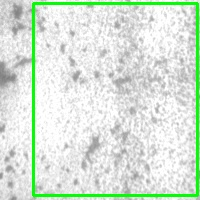patches: (1, 2, 35, 90)
pitted_surface: (33, 3, 197, 195)
